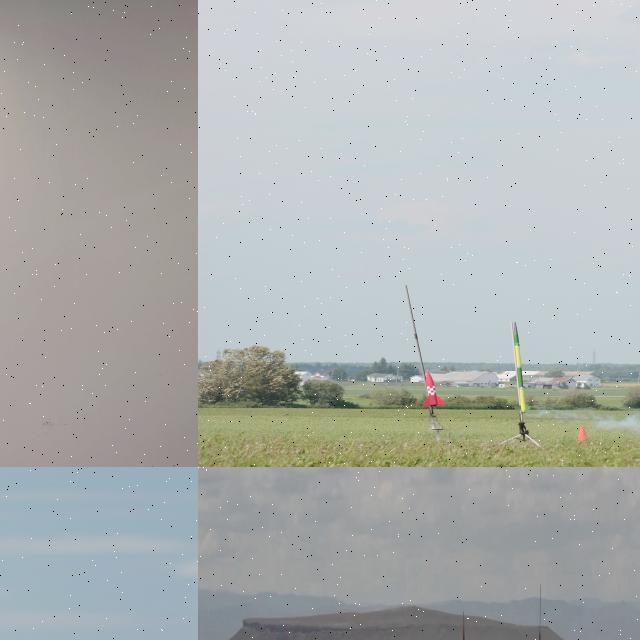Rocket: (513, 321, 531, 413), (422, 369, 445, 408), (462, 617, 466, 640), (536, 628, 542, 640)
